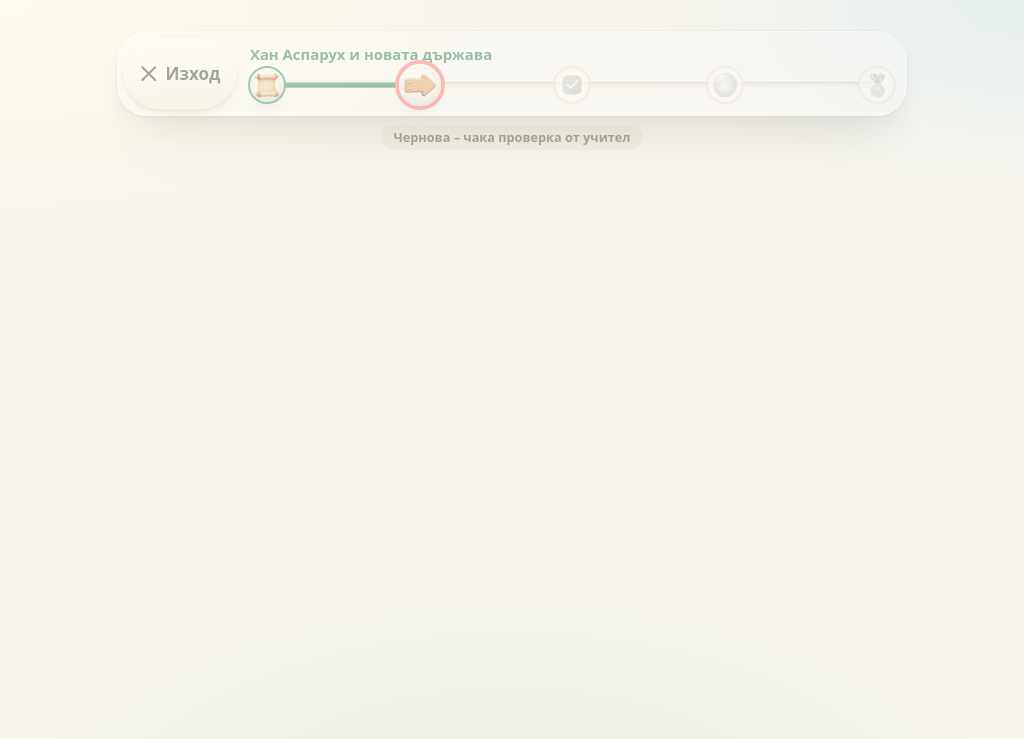
Test: mission Хан Аспарух (young) › the Exit button is visible in every phase and leaves without a badge
Earlier steps of the test are not shown.
Click the button "Изход". click: [180, 74]
box: [123,37,237,110]
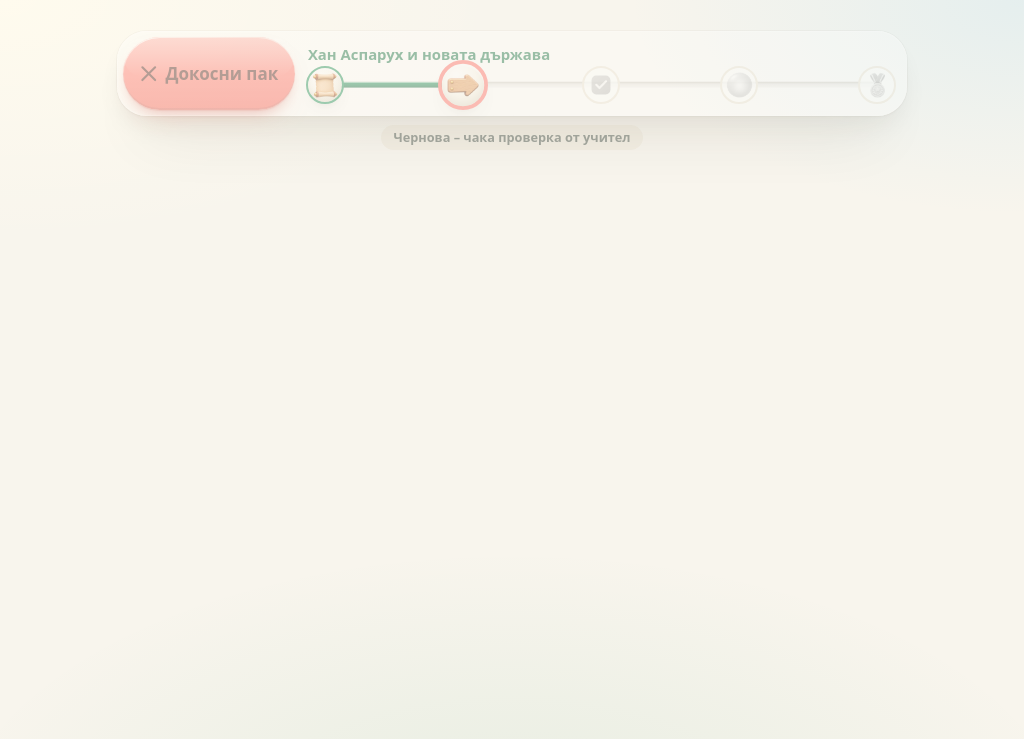
Click the button "Докосни пак". click: [209, 74]
box: [123,37,295,110]
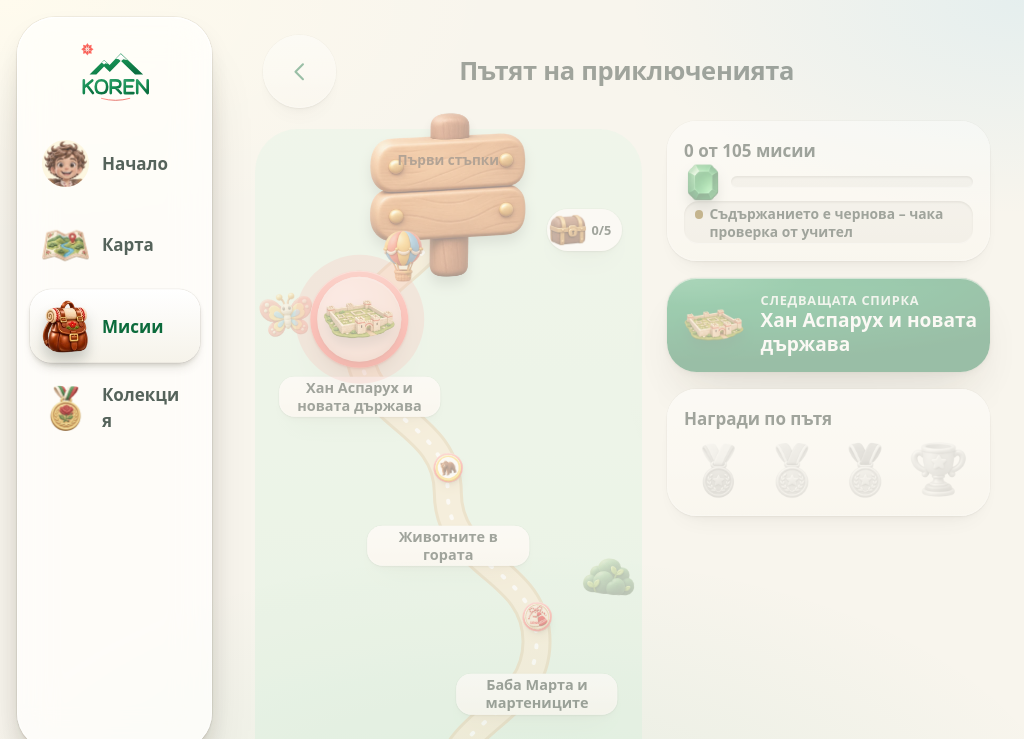
Expected: the heading "Пътят на приключенията" is shown, [459,53,794,87]
